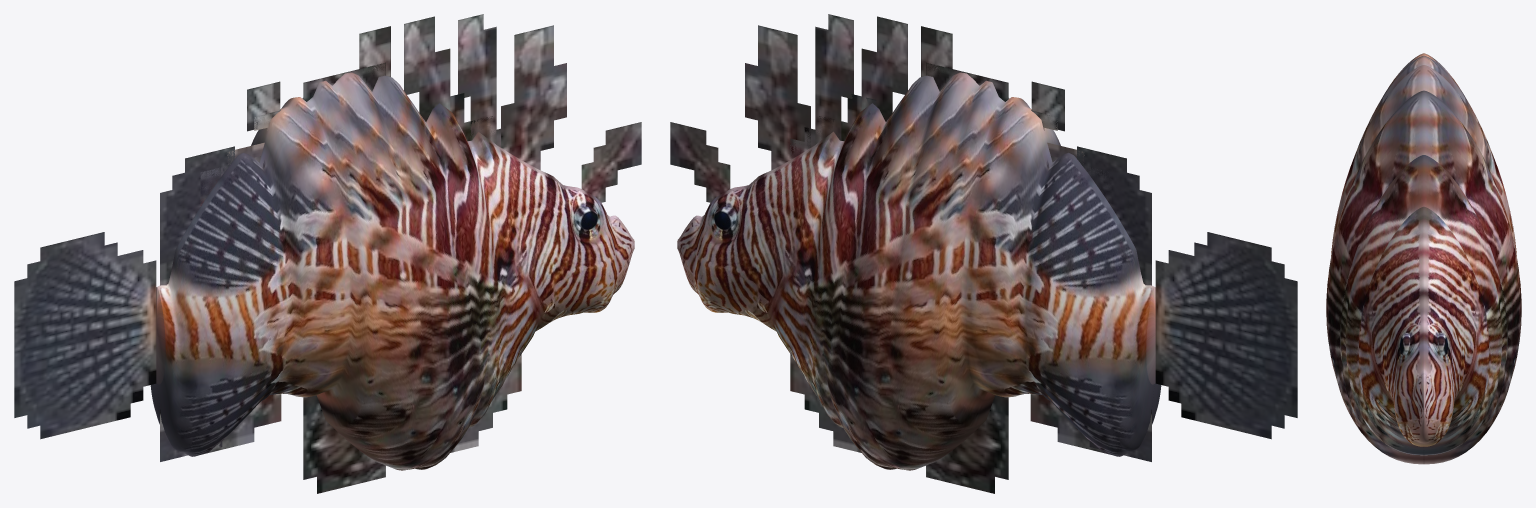
Rendered from real-pterois_volitans.glb.
3 renders of one model, left to right at view 1: azimuth 30°, elevation 25°; view 2: azimuth 150°, elevation 25°; view 3: azimuth 270°, elevation 25°, orthographic. The views are drawn at different scales.
Visible parts, largest first — view 1: pterois_volitans; view 2: pterois_volitans; view 3: pterois_volitans.
Part boxes in pixels (box(x1,y1,x2,y2)): pterois_volitans: box(14, 14, 641, 493); pterois_volitans: box(670, 14, 1297, 493); pterois_volitans: box(1326, 53, 1521, 464).
Size of the model in its own units: 0.4555 by 0.3122 by 0.1347.
Materials: 1 (1 with a texture image).
